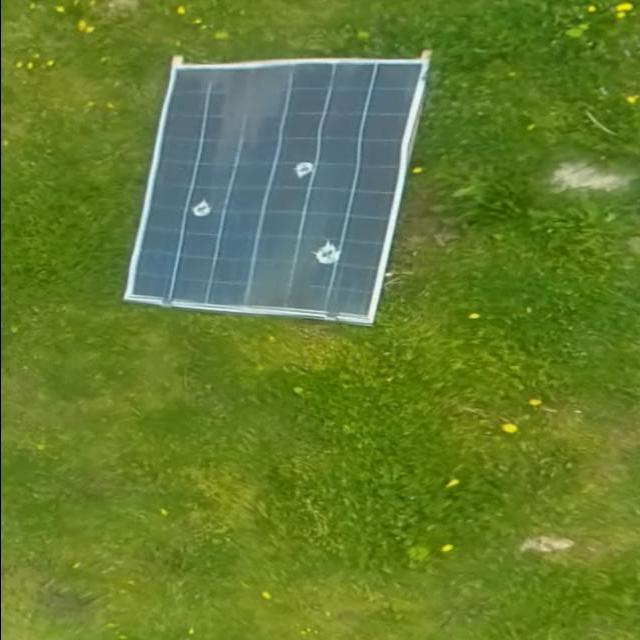soiled: (119, 45, 427, 338)
